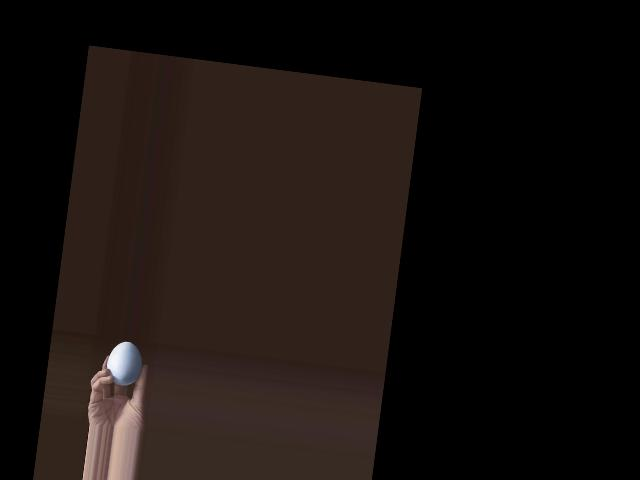egg: (104, 338, 144, 387)
